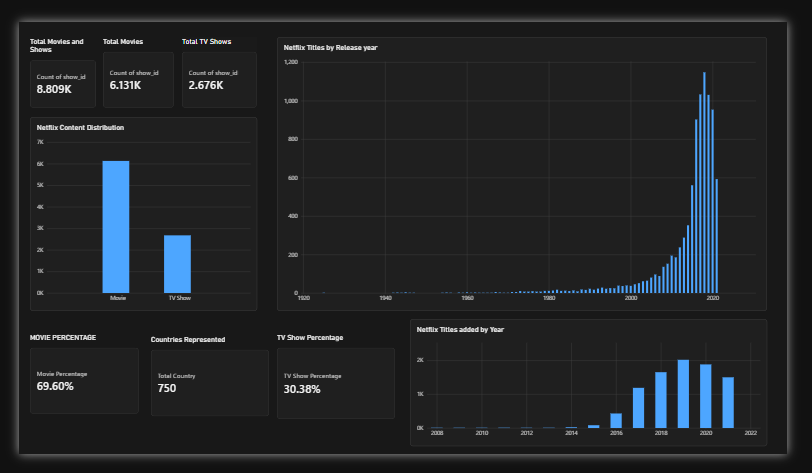

The page's visual inventory and layout, read from the dashboard file:
{"tool":"powerbi","page":{"name":"Page 1","canvas":[1920,1080],"ordinal":0},"visuals":[{"type":"cardVisual","title":"Total Movies and Shows","fields":{"Data":["Count(netflix_titles.show_id)"]},"box":[27.5,37.5,165,177.5],"z":1},{"type":"cardVisual","title":"Total Movies","fields":{"Data":["Count(netflix_titles.show_id)"]},"box":[210,37.5,177.5,177.5],"z":2},{"type":"cardVisual","title":"Total TV Shows","fields":{"Data":["Count(netflix_titles.show_id)"]},"box":[407.5,37.5,187.5,177.5],"z":3},{"type":"clusteredColumnChart","title":"Netflix Content Distribution","fields":{"Category":["netflix_titles.type"],"Y":["CountNonNull(netflix_titles.show_id)"]},"box":[27.5,237.5,567.5,485],"z":4},{"type":"clusteredColumnChart","title":"Netflix Titles by Release year","fields":{"Category":["netflix_titles.release_year"],"Y":["Count(netflix_titles.show_id)"]},"box":[645,37.5,1225,685],"z":5},{"type":"cardVisual","title":"MOVIE PERCENTAGE","fields":{"Data":["netflix_titles.Movie Percentage"]},"box":[27.5,777.5,272.5,202.5],"z":6},{"type":"cardVisual","title":"Countries Represented","fields":{"Data":["netflix_titles.Total Country"]},"box":[330,782.5,295,203],"z":7},{"type":"cardVisual","title":"TV Show Percentage","fields":{"Data":["netflix_titles.TV Show Percentage"]},"box":[645,777.5,295,215],"z":8},{"type":"clusteredColumnChart","title":"Netflix Titles added by Year","fields":{"Category":["netflix_titles.Date.Variation.Date Hierarchy.Year"],"Y":["Count(netflix_titles.show_id)"]},"box":[977.5,742.5,892.5,317.5],"z":9}]}

Visuals, with their boxes on the page's 1920x1080 design canvas (x1, y1, x2, y2). These are canvas units, not pixel positions in the 812x473 screenshot, which may show the page scaled, cropped or inside an application window:
"Total Movies and Shows" cardVisual: {"left": 28, "top": 38, "right": 192, "bottom": 215}
"Total Movies" cardVisual: {"left": 210, "top": 38, "right": 388, "bottom": 215}
"Total TV Shows" cardVisual: {"left": 408, "top": 38, "right": 595, "bottom": 215}
"Netflix Content Distribution" clusteredColumnChart: {"left": 28, "top": 238, "right": 595, "bottom": 722}
"Netflix Titles by Release year" clusteredColumnChart: {"left": 645, "top": 38, "right": 1870, "bottom": 722}
"MOVIE PERCENTAGE" cardVisual: {"left": 28, "top": 778, "right": 300, "bottom": 980}
"Countries Represented" cardVisual: {"left": 330, "top": 782, "right": 625, "bottom": 986}
"TV Show Percentage" cardVisual: {"left": 645, "top": 778, "right": 940, "bottom": 992}
"Netflix Titles added by Year" clusteredColumnChart: {"left": 978, "top": 742, "right": 1870, "bottom": 1060}
